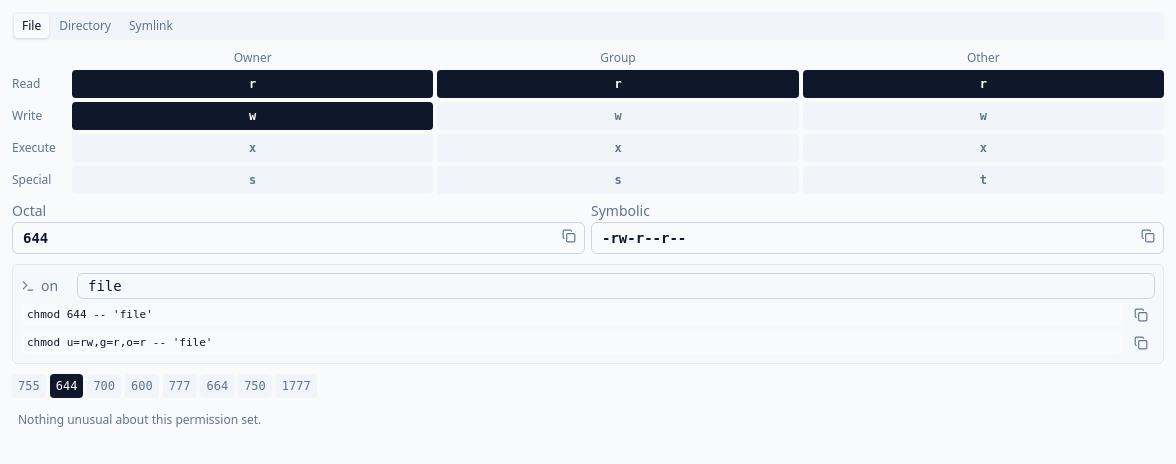
Test: UnixPermissionsWidget › shows an error for an invalid octal value without discarding the last valid state
Replace the text in the field labelled "Octal" with "899". click: [298, 238]
box: [12, 222, 585, 254]
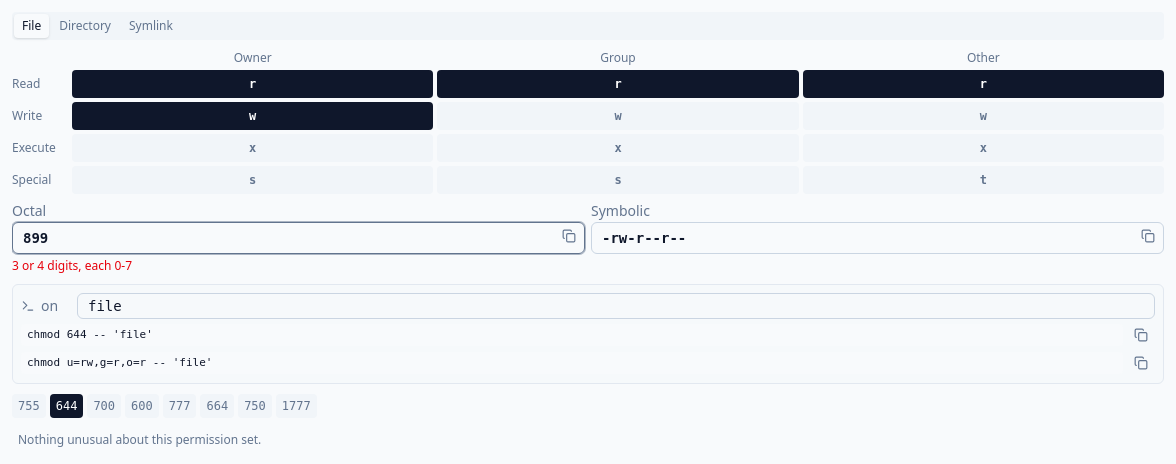
Expected: the field labelled "Symbolic" holds "-rw-r--r--", [591, 222, 1164, 254]
Expected: the text "3 or 4 digits, each 0-7" is shown, [12, 257, 132, 274]
